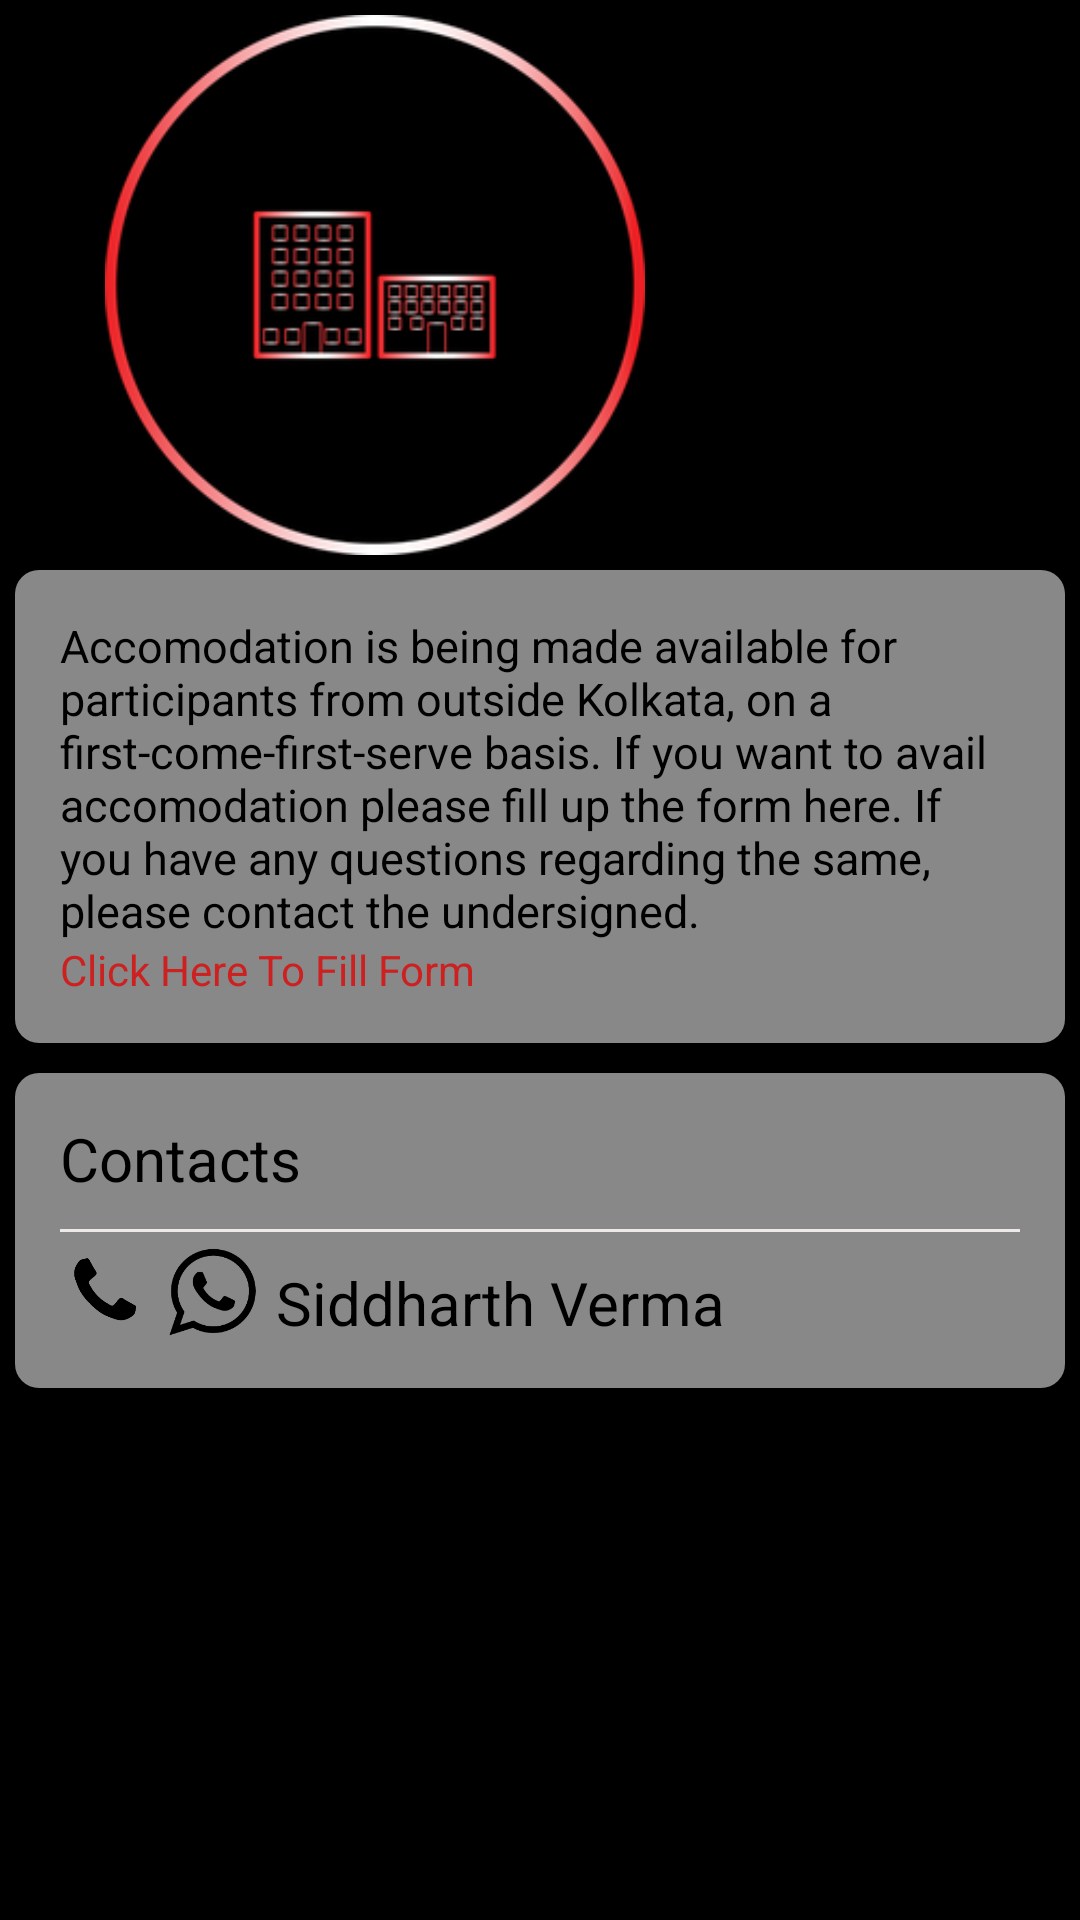

Locate icon controls on the screen. Image size 1080×1920, boxes as (x1, y1, x2, y2).
phone: (74, 1258, 136, 1320)
